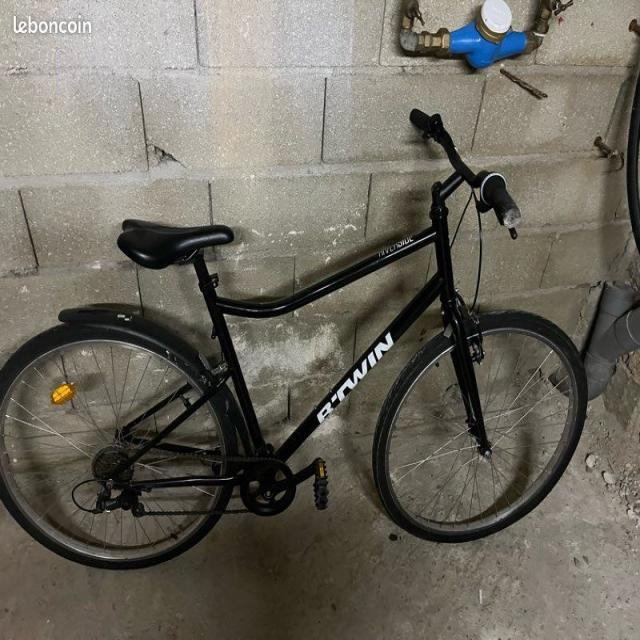Bike: (0, 115, 587, 569)
